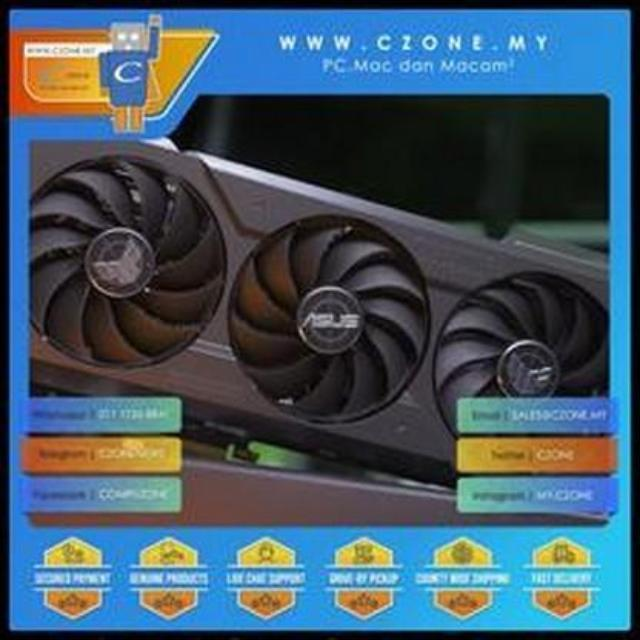GPU: (0, 121, 614, 492)
